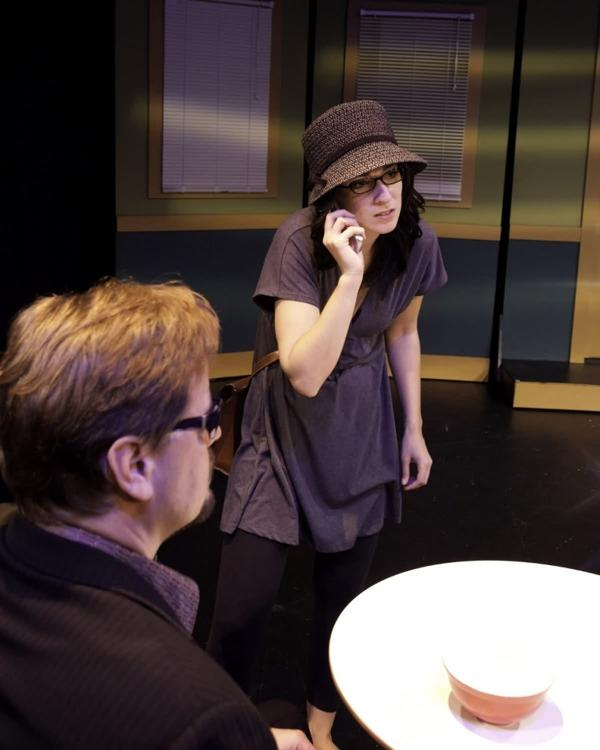person: (220, 87, 446, 742)
